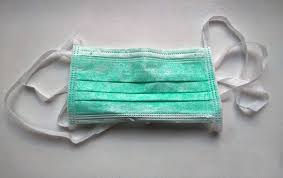FaceMask: (67, 43, 222, 124)
